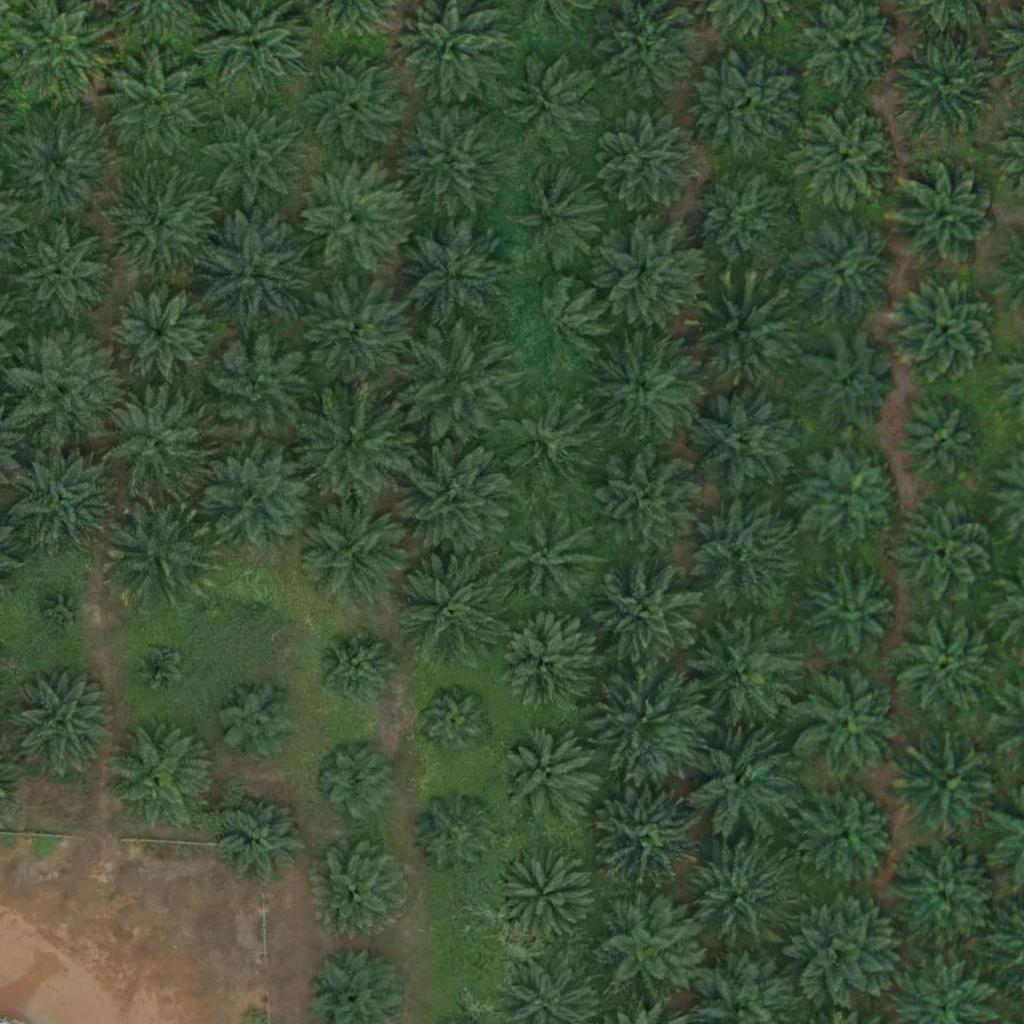Kelapa_Sawit: (102, 49, 215, 163), (894, 29, 1007, 143), (394, 544, 507, 658), (297, 275, 410, 389), (294, 385, 407, 499), (195, 104, 308, 218), (197, 214, 310, 328), (105, 169, 218, 283), (592, 104, 705, 217), (888, 161, 1001, 274), (890, 271, 1003, 384), (689, 384, 802, 497), (685, 494, 798, 607), (594, 218, 707, 331), (585, 331, 698, 444), (591, 448, 704, 561), (299, 495, 412, 608), (201, 335, 314, 448), (593, 666, 706, 779), (594, 783, 707, 896), (690, 614, 803, 727), (687, 728, 800, 841), (681, 839, 794, 952), (789, 894, 902, 1007), (591, 559, 703, 673), (398, 325, 510, 439), (400, 442, 512, 556), (104, 720, 216, 834), (103, 496, 215, 609), (1, 107, 113, 220), (298, 47, 410, 160), (397, 104, 509, 217), (696, 48, 808, 161), (687, 164, 799, 277), (686, 279, 798, 392), (396, 219, 508, 332), (296, 162, 408, 275), (206, 442, 318, 555), (101, 386, 213, 499), (1, 332, 113, 445), (5, 439, 117, 552), (5, 670, 117, 783), (589, 892, 701, 1005), (794, 668, 906, 781), (889, 607, 1001, 720), (896, 734, 1008, 847), (889, 840, 1001, 953), (895, 502, 995, 603), (794, 107, 894, 208), (791, 219, 891, 320), (800, 335, 900, 436), (801, 445, 901, 546), (798, 559, 898, 660), (506, 165, 606, 266), (110, 283, 210, 384), (12, 224, 112, 325), (494, 616, 594, 717), (500, 728, 600, 829), (495, 846, 595, 947), (800, 785, 900, 886), (498, 392, 598, 492), (502, 511, 602, 611), (312, 841, 412, 941), (899, 397, 987, 485), (515, 282, 603, 370), (221, 793, 309, 881), (510, 58, 597, 146), (215, 678, 302, 766), (314, 628, 401, 716), (311, 737, 398, 825), (413, 792, 500, 880), (416, 684, 491, 759), (39, 586, 89, 637), (133, 642, 183, 693), (230, 579, 280, 629)
